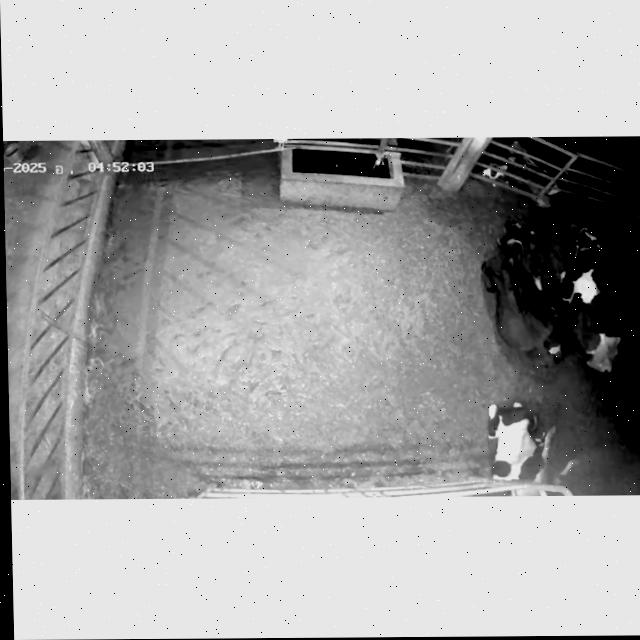lay: (463, 213, 566, 376), (561, 201, 637, 386), (480, 392, 578, 496)
